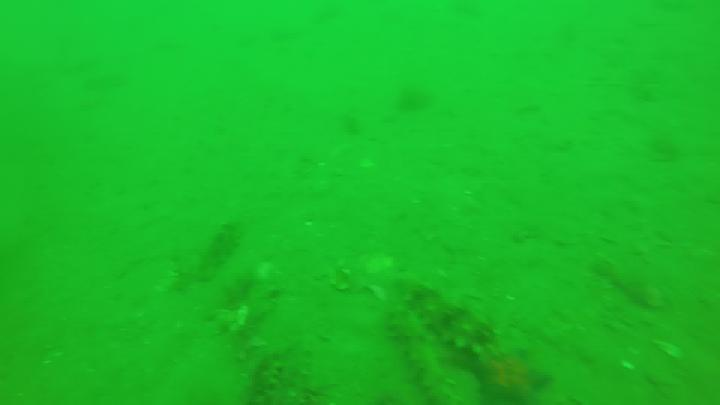holothurian: (400, 284, 510, 405), (385, 307, 452, 405), (187, 211, 245, 290), (248, 354, 279, 405)
scallop: (217, 307, 251, 336), (331, 263, 355, 295)
starfish: (469, 350, 556, 405)
